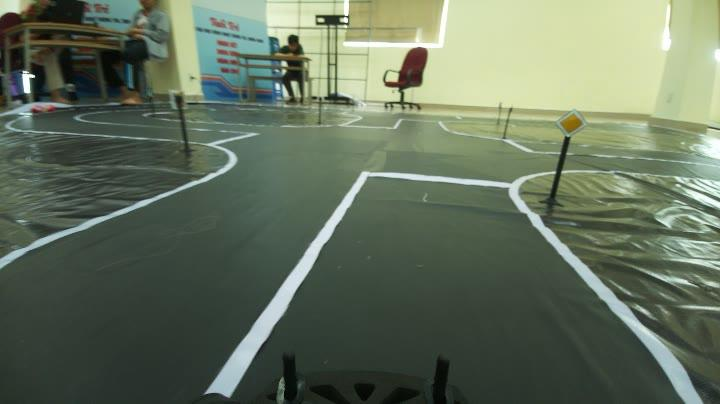priority: (550, 106, 590, 142)
